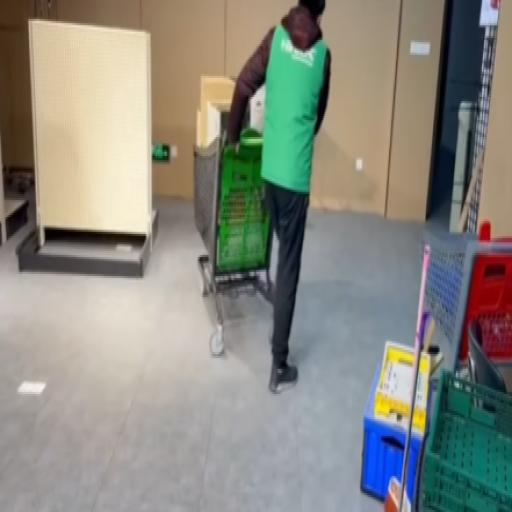shopping_cart: (191, 126, 277, 362), (415, 222, 512, 372)
